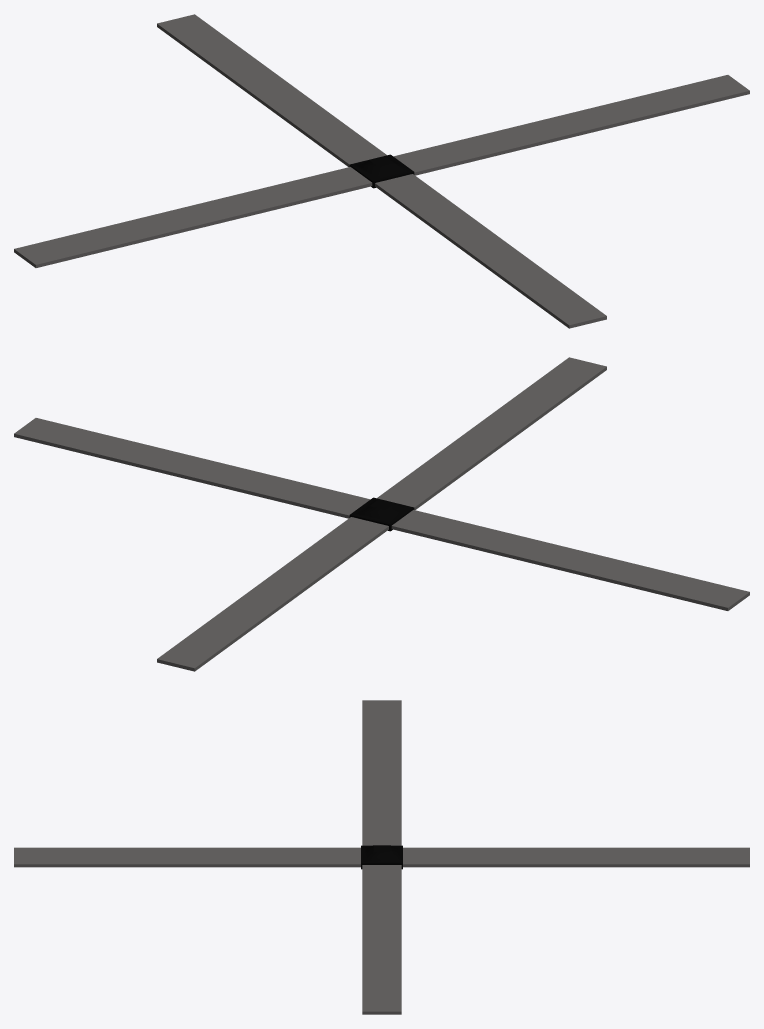
The model's file is EnemyApacheMainBlade.fbx.
The picture shows the model from 3 angles, top to bottom: view 1: azimuth 30°, elevation 25°; view 2: azimuth 150°, elevation 25°; view 3: azimuth 270°, elevation 25°; orthographic projection. The views are drawn at different scales.
Parts seen in each view (by area): view 1: Cube.002; view 2: Cube.002; view 3: Cube.002.
Boxes of the visible parts, x1=… form: Cube.002: x1=14, y1=14, x2=749, y2=328; Cube.002: x1=14, y1=357, x2=749, y2=671; Cube.002: x1=14, y1=700, x2=749, y2=1014.
Bounding box in the file's own units: 919 × 16.14 × 919.
Materials: 1 (1 with a texture image).
